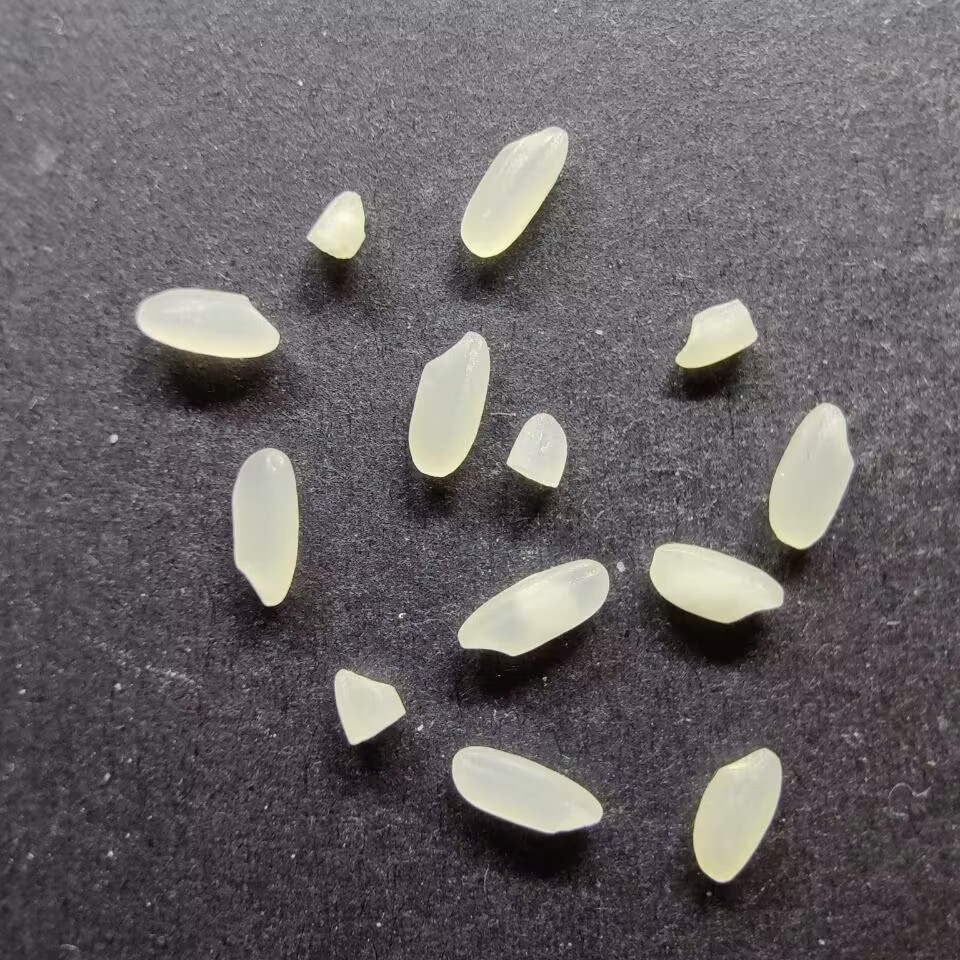broken: (673, 294, 757, 372), (331, 665, 407, 749), (505, 411, 571, 489), (305, 188, 368, 262)
rice: (456, 556, 610, 658), (458, 123, 570, 261), (449, 744, 601, 833), (766, 402, 855, 551), (690, 745, 783, 885), (406, 329, 491, 479), (648, 540, 785, 626), (229, 446, 301, 607), (135, 287, 281, 360)
